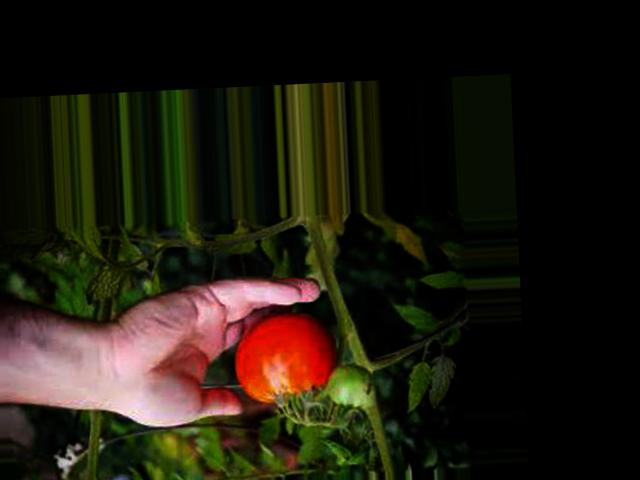tomato: (231, 311, 341, 406)
